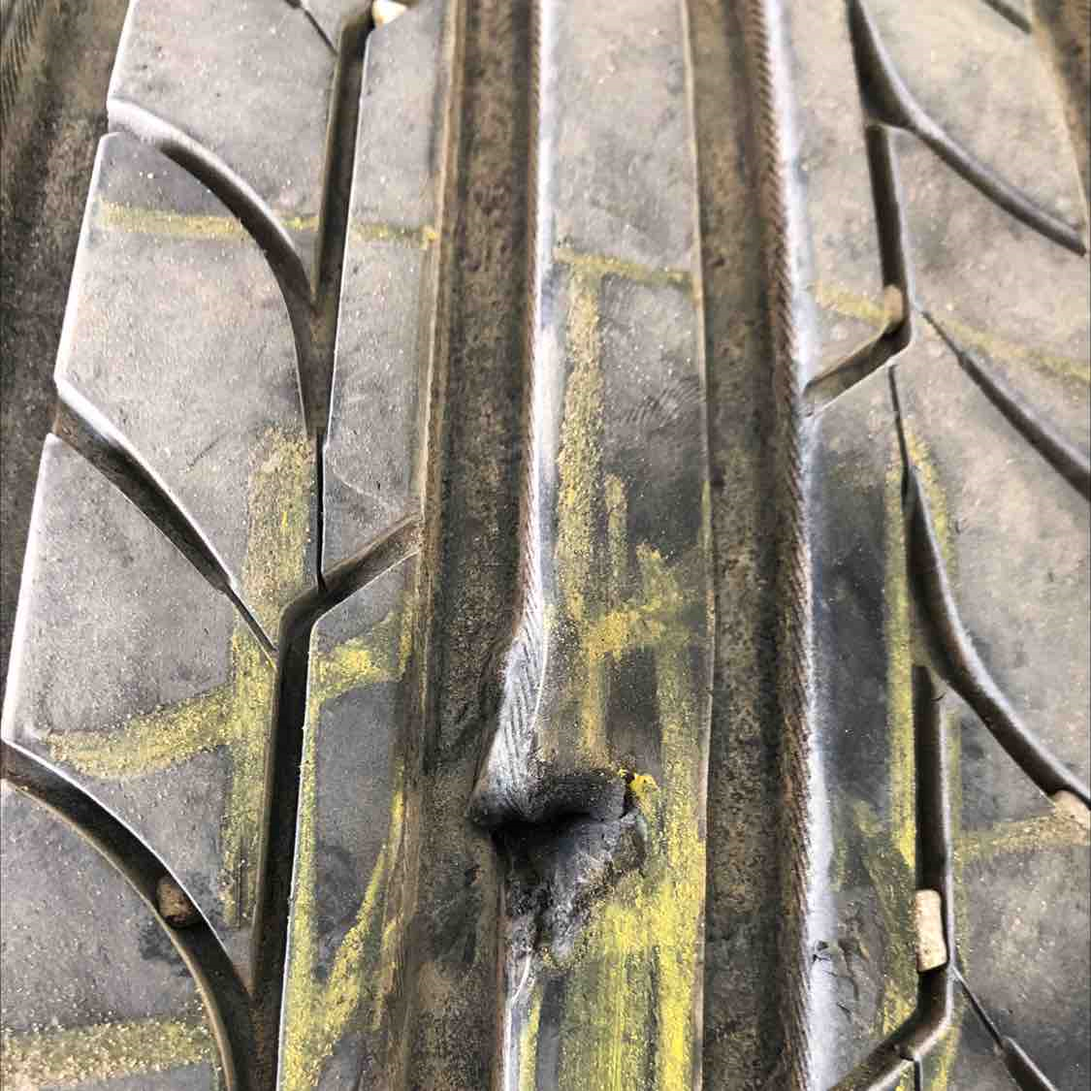tr: (454, 763, 651, 980)
